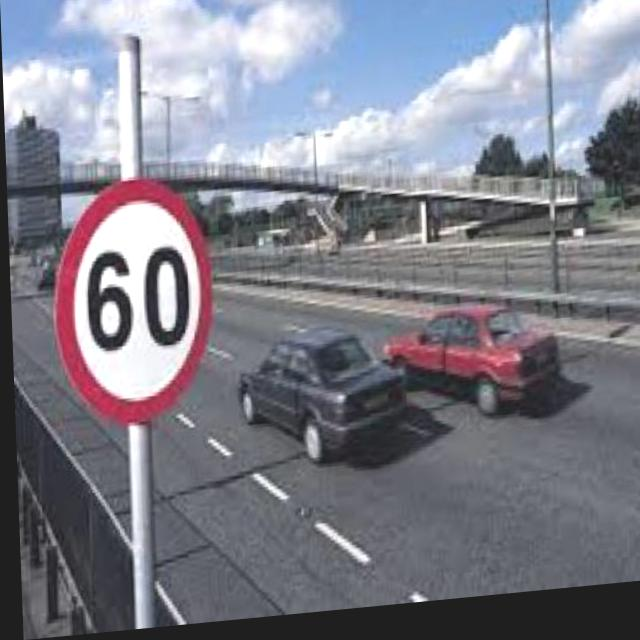limit60: (46, 168, 216, 441)
